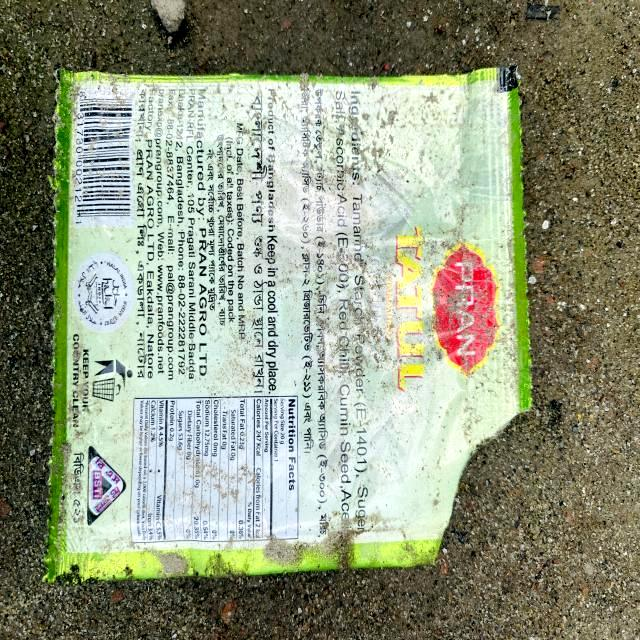packet: (52, 69, 533, 581)
